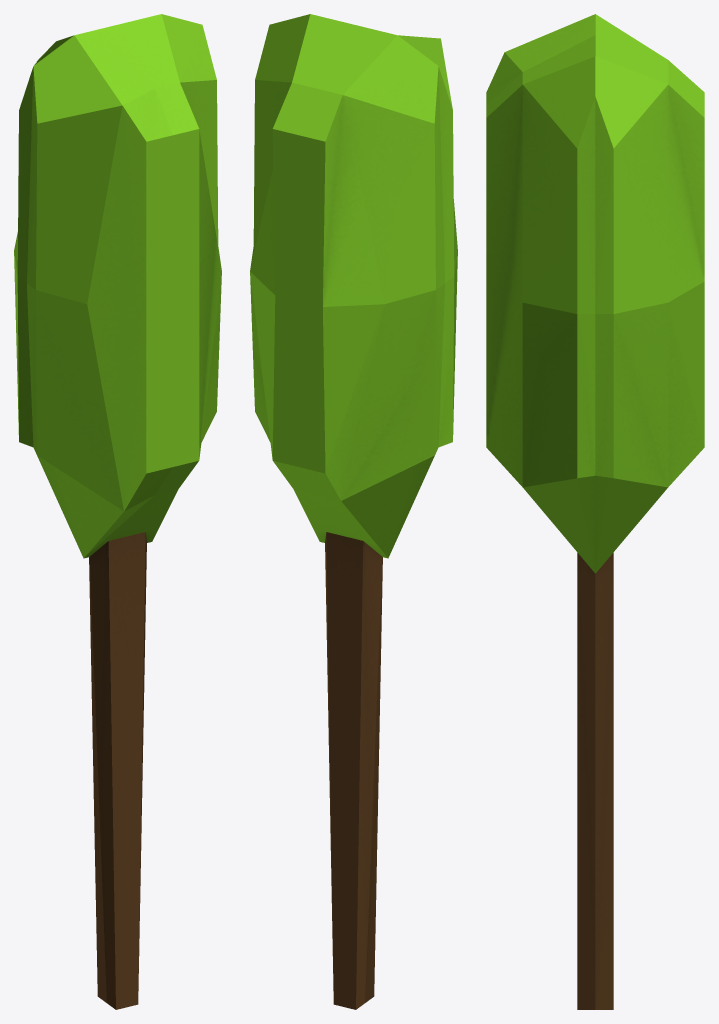
Rendered from tree3.glb.
3 renders of one model, left to right at view 1: azimuth 30°, elevation 25°; view 2: azimuth 150°, elevation 25°; view 3: azimuth 270°, elevation 25°, orthographic.
Parts seen in each view (by area): view 1: Cube; view 2: Cube; view 3: Cube.
Part boxes in pixels (left/top/right/bottom): Cube: left=14, top=14, right=221, bottom=1009; Cube: left=250, top=14, right=457, bottom=1009; Cube: left=486, top=14, right=704, bottom=1009.
Bounding box in the file's own units: 1.15 × 5.88 × 1.2.
1 material, 1 textured.
